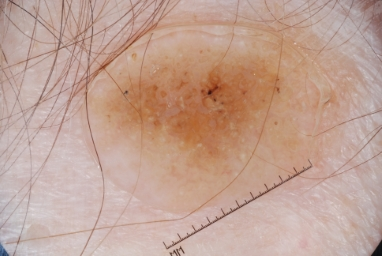seborrheic keratosis: (109, 61, 289, 165)
